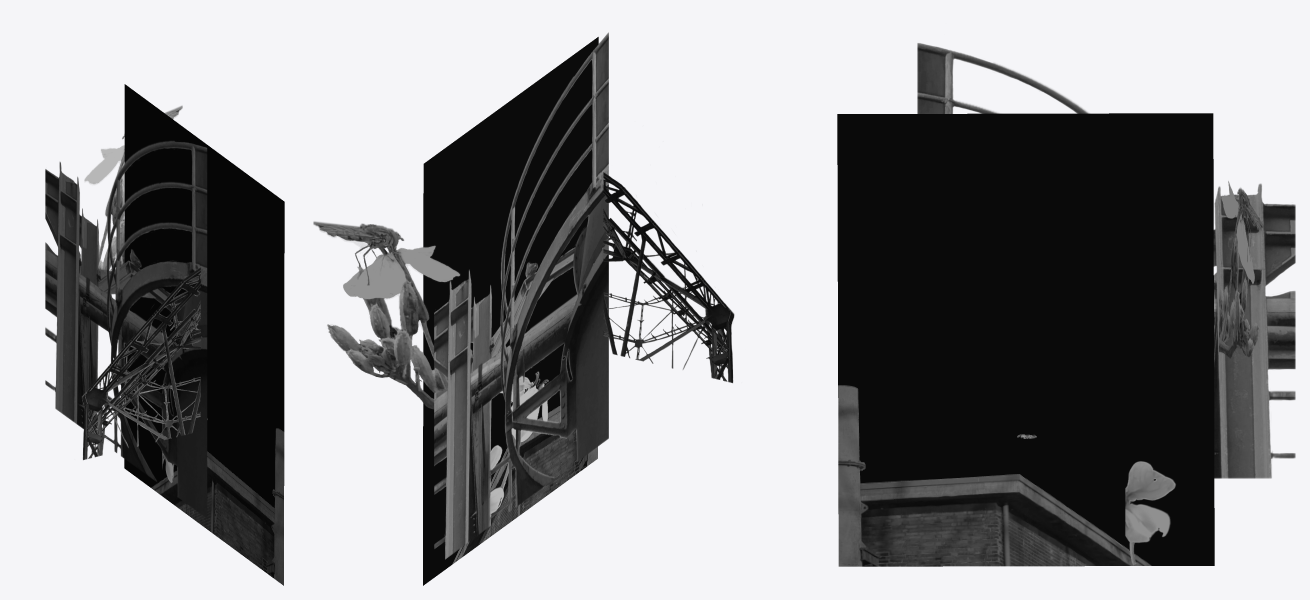
The model's file is asset.glb.
3 renders of one model, left to right at view 1: azimuth 30°, elevation 25°; view 2: azimuth 150°, elevation 25°; view 3: azimuth 270°, elevation 25°, orthographic. The views are drawn at different scales.
Visible parts, largest first — view 1: Ecke, Taube für Katalog, Mini Kühlturm, Schwefliger; view 2: Ecke, Taube für Katalog, Schwefliger, Mini Kühlturm, Blümchen; view 3: Ecke, Taube für Katalog, Schwefliger, Blümchen.
Part boxes in pixels (x1=…): Ecke: x1=124, y1=84, x2=284, y2=585; Taube für Katalog: x1=45, y1=141, x2=207, y2=518; Mini Kühlturm: x1=82, y1=267, x2=200, y2=459; Schwefliger: x1=84, y1=106, x2=182, y2=270; Ecke: x1=423, y1=37, x2=598, y2=585; Taube für Katalog: x1=434, y1=32, x2=608, y2=559; Schwefliger: x1=313, y1=221, x2=460, y2=409; Mini Kühlturm: x1=603, y1=172, x2=734, y2=382; Blümchen: x1=490, y1=371, x2=548, y2=514; Ecke: x1=837, y1=113, x2=1214, y2=566; Taube für Katalog: x1=917, y1=43, x2=1295, y2=478; Schwefliger: x1=1219, y1=181, x2=1263, y2=358; Blümchen: x1=1125, y1=460, x2=1176, y2=565.
Bounding box in the file's own units: 13.06 × 18.54 × 14.21.
Materials: 5 (5 with a texture image).
